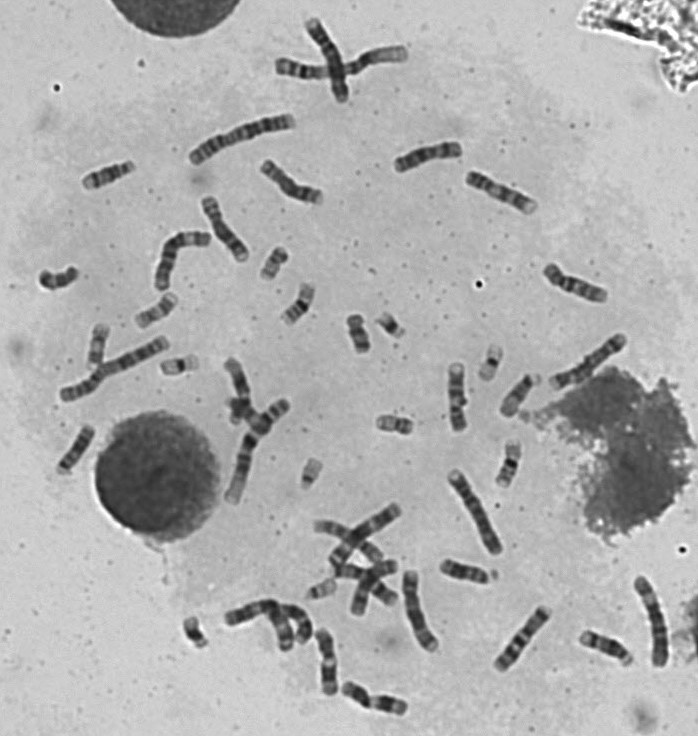chromosomes: (47, 331, 178, 407), (218, 392, 295, 512), (178, 104, 303, 174), (266, 38, 415, 88), (444, 464, 510, 561), (324, 499, 409, 571), (298, 12, 357, 115), (489, 597, 562, 679), (215, 593, 303, 659), (546, 328, 634, 394), (628, 569, 679, 673), (459, 163, 548, 221), (191, 191, 256, 267), (250, 154, 333, 211), (534, 256, 620, 311), (151, 226, 216, 298), (384, 132, 472, 180), (398, 568, 445, 657), (306, 516, 388, 564), (70, 148, 145, 200), (347, 555, 406, 621), (325, 563, 402, 610), (334, 674, 413, 719), (50, 416, 99, 487), (215, 351, 256, 432), (574, 625, 641, 671), (314, 619, 348, 705), (263, 598, 319, 650), (440, 355, 475, 437), (493, 370, 546, 423), (436, 554, 505, 591), (131, 289, 185, 335), (277, 277, 323, 330), (32, 258, 86, 303), (221, 394, 273, 438), (492, 435, 528, 492), (255, 240, 296, 285), (175, 610, 213, 658), (342, 313, 378, 360), (82, 319, 115, 370), (371, 304, 411, 344), (371, 407, 419, 440), (159, 350, 204, 385), (475, 339, 509, 383), (296, 456, 328, 496), (299, 575, 341, 605)
